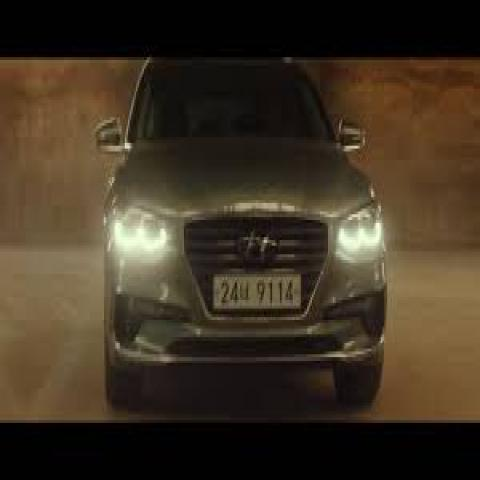LP: (208, 263, 306, 321)
